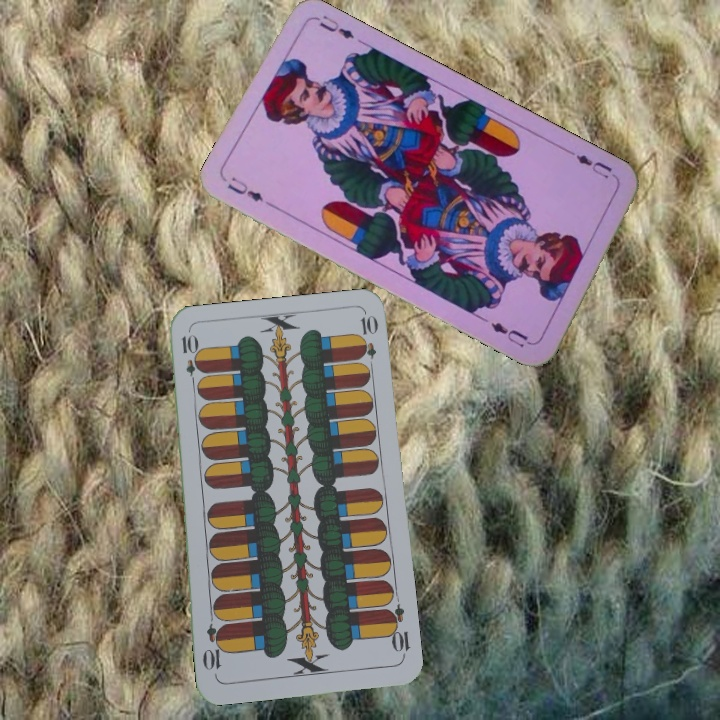E10: (382, 601, 412, 660), (177, 331, 200, 390)
EU: (223, 173, 277, 210), (566, 146, 615, 181)
